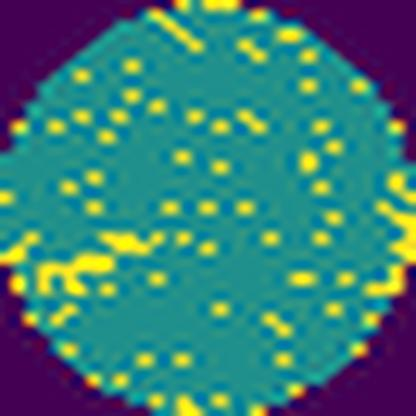Loc: (38, 224, 168, 294)
